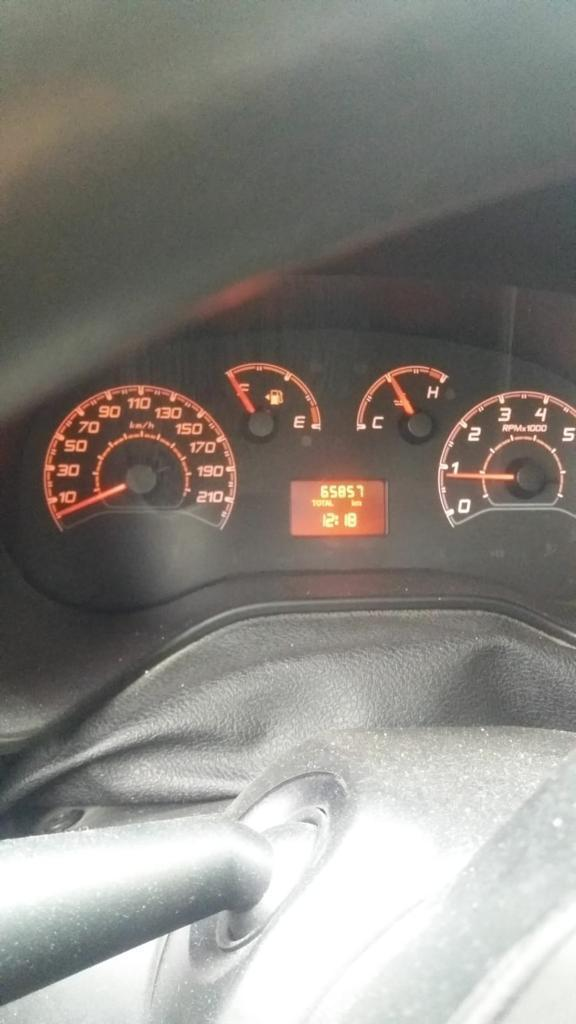1: (342, 512, 347, 527), (320, 512, 325, 527)
2: (325, 511, 334, 528)
5: (328, 484, 337, 498), (346, 484, 355, 498)
6: (319, 483, 329, 498)
7: (356, 484, 363, 497)
8: (348, 512, 357, 527), (337, 484, 346, 498)
X: (334, 514, 338, 526), (350, 498, 355, 507), (356, 500, 362, 506), (310, 499, 315, 506), (315, 499, 320, 506), (320, 499, 325, 506), (325, 498, 329, 506), (329, 499, 333, 506)
odometer: (286, 477, 389, 536)
